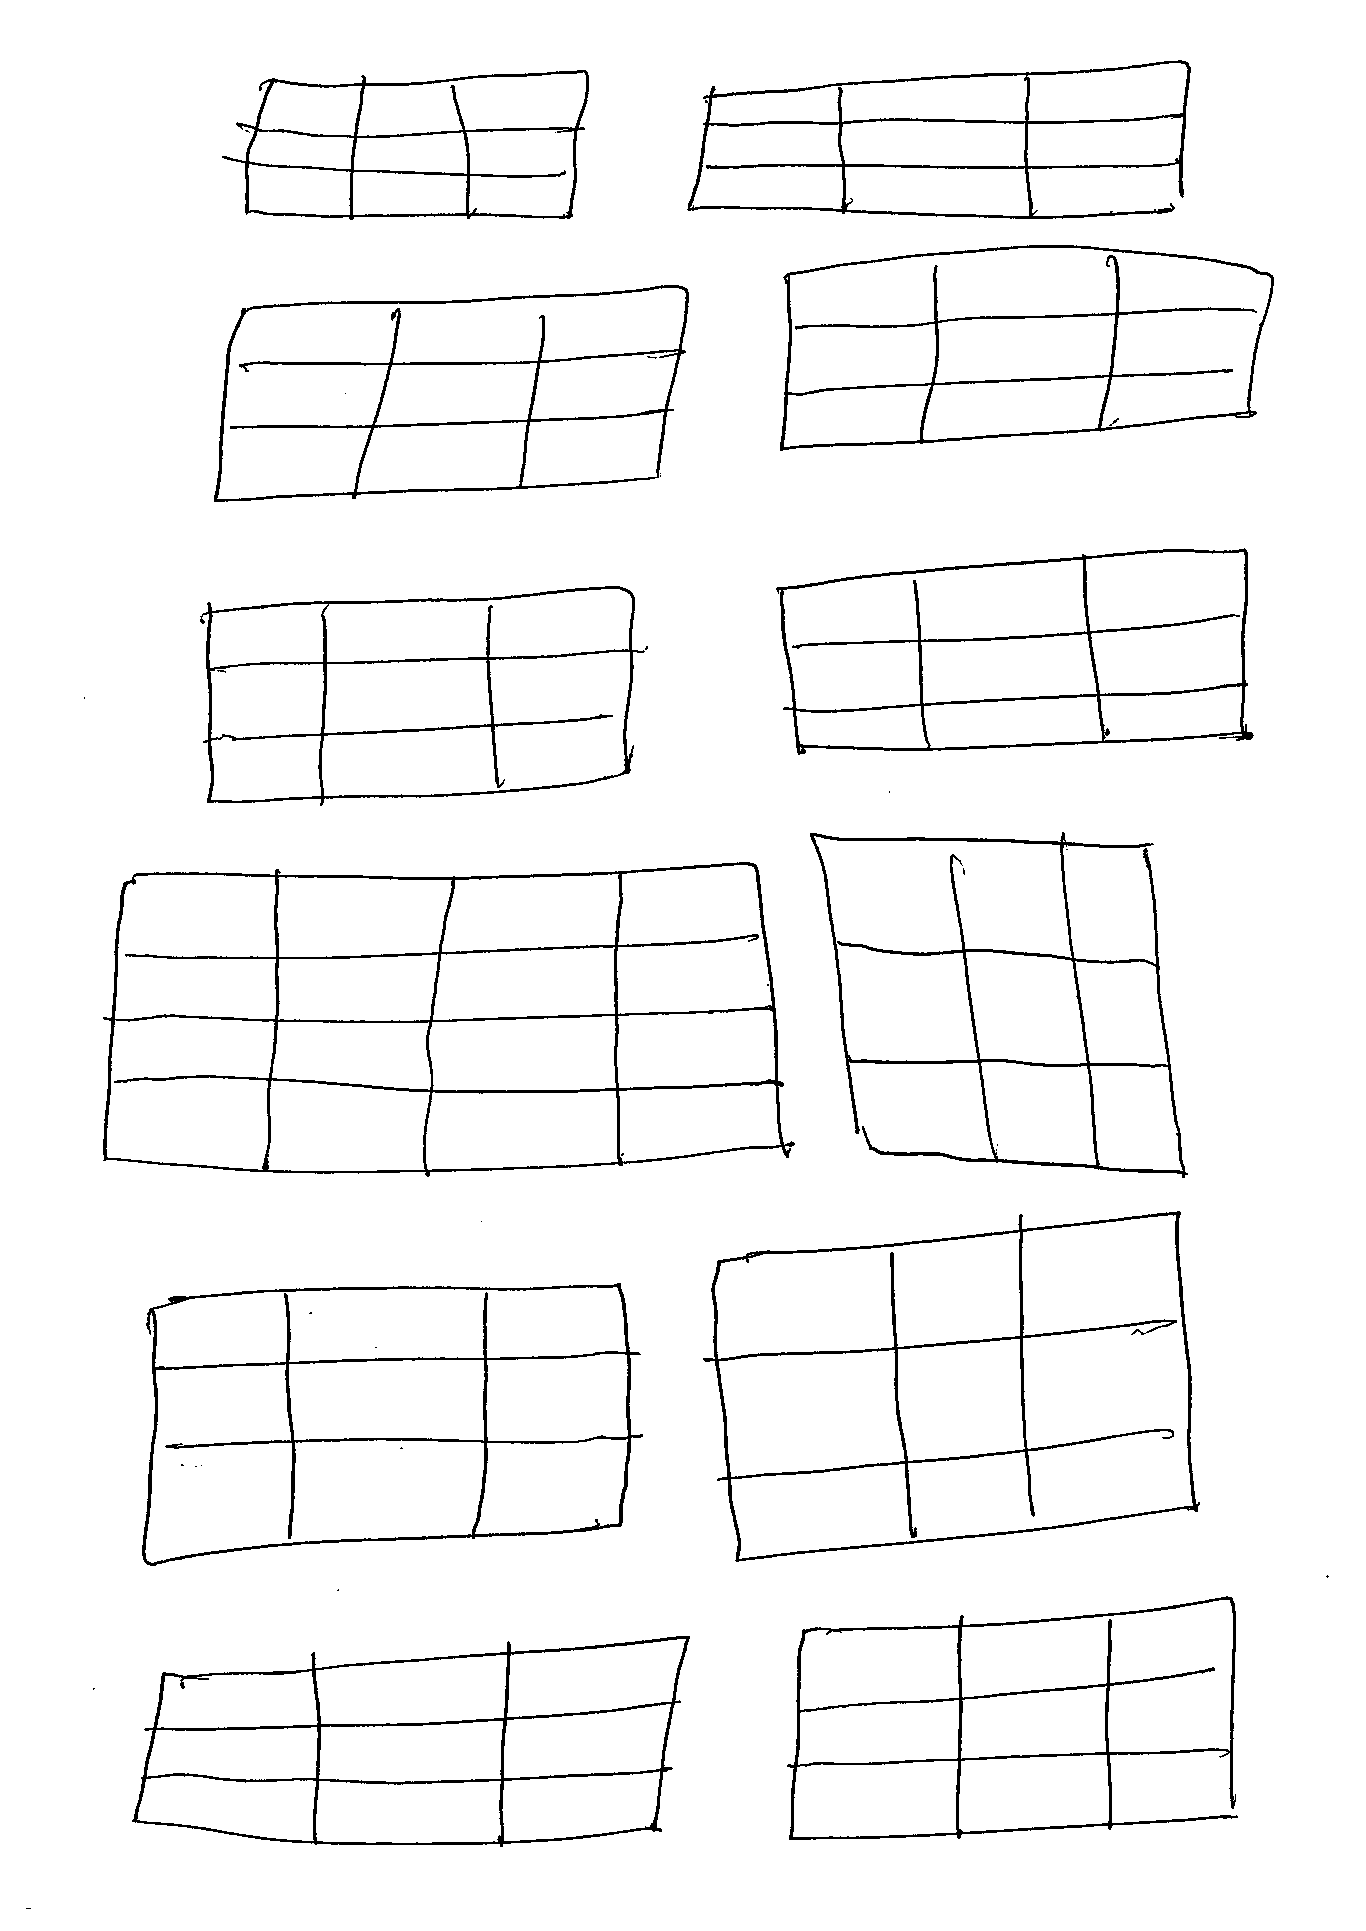Table: (98, 858, 786, 1175), (704, 1209, 1197, 1566), (139, 1279, 636, 1566), (807, 832, 1186, 1178), (129, 1632, 690, 1851), (786, 1592, 1240, 1844), (207, 281, 692, 507), (775, 240, 1276, 455), (772, 544, 1252, 756), (203, 581, 639, 809), (682, 56, 1192, 222), (234, 67, 591, 228)
